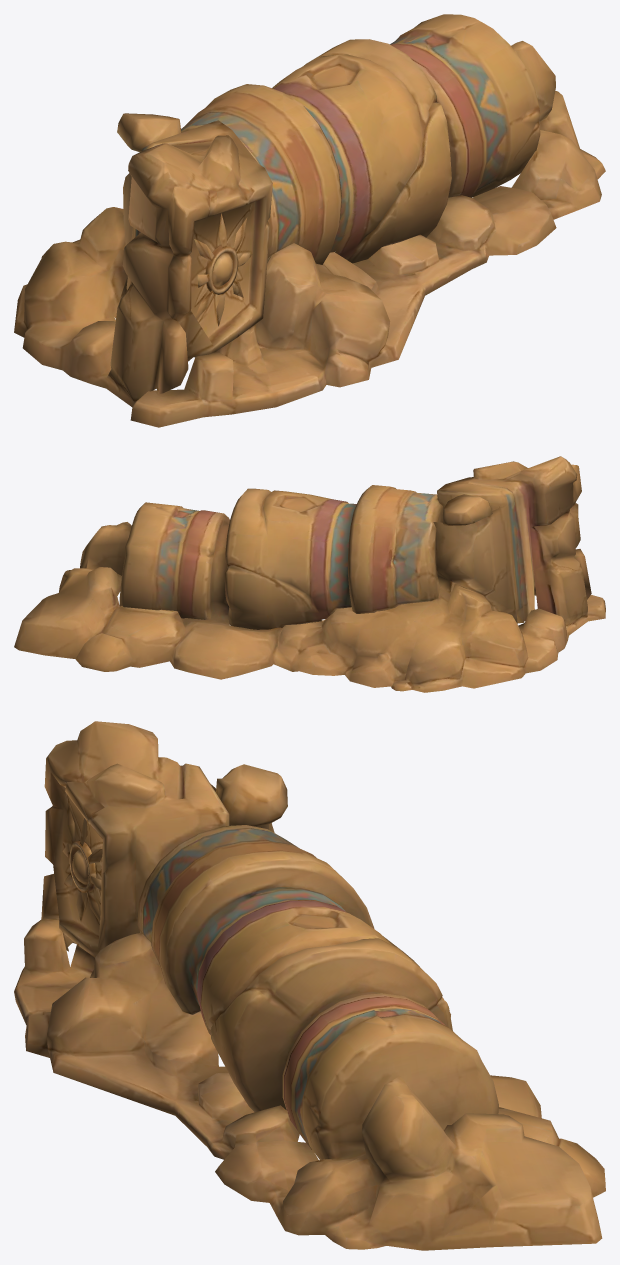
Rendered from SM_Tripo_DesertColumnRuin.glb.
The picture shows the model from 3 angles, top to bottom: view 1: azimuth 30°, elevation 25°; view 2: azimuth 150°, elevation 25°; view 3: azimuth 270°, elevation 25°; orthographic projection. The views are drawn at different scales.
Visible parts, largest first — view 1: SM_Tripo_DesertColumnRuin_LOD0; view 2: SM_Tripo_DesertColumnRuin_LOD0; view 3: SM_Tripo_DesertColumnRuin_LOD0.
Part boxes in pixels (x1,y1,x2,y2): SM_Tripo_DesertColumnRuin_LOD0: (14, 14, 605, 427); SM_Tripo_DesertColumnRuin_LOD0: (14, 456, 605, 692); SM_Tripo_DesertColumnRuin_LOD0: (14, 721, 605, 1250).
Size of the model in its own units: 4.24 by 1.57 by 3.36.
Materials: 1 (1 with a texture image).
